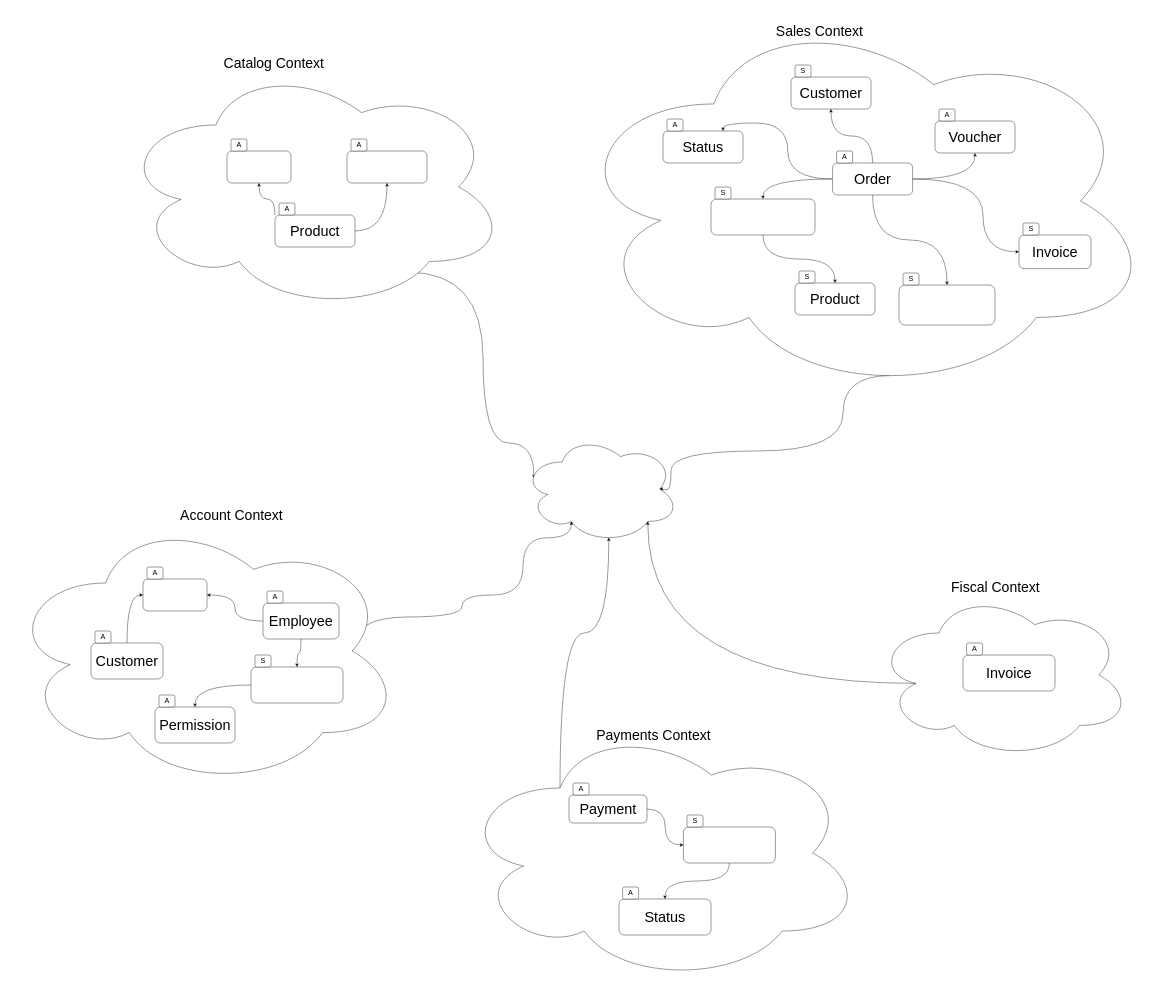
Some shapes in this 1161 by 990 pixel diagram are drawn without their labels. Here are the shapes that lost their labels. From the top down, the centre of each, then its label:
At point 259,167: "Brand".
At point 387,167: "Category".
At point 763,217: "Order Product".
At point 947,305: "Transport Company".
At point 601,489: "Shared Kernel".
At point 175,595: "Account".
At point 297,685: "Employee Permission".
At point 729,845: "Payment Status".
